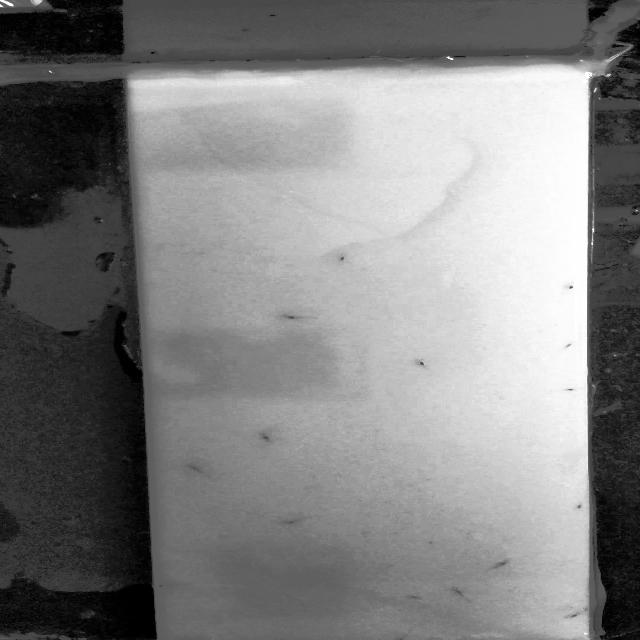shrimp: (480, 556, 516, 575), (147, 581, 193, 592), (184, 463, 216, 478), (276, 314, 320, 323), (412, 358, 436, 374), (453, 588, 474, 606), (561, 609, 585, 620), (406, 594, 432, 604), (257, 434, 283, 444), (278, 518, 310, 526), (556, 338, 573, 352), (562, 281, 575, 294), (558, 386, 578, 394), (334, 255, 353, 262), (572, 504, 582, 514)
